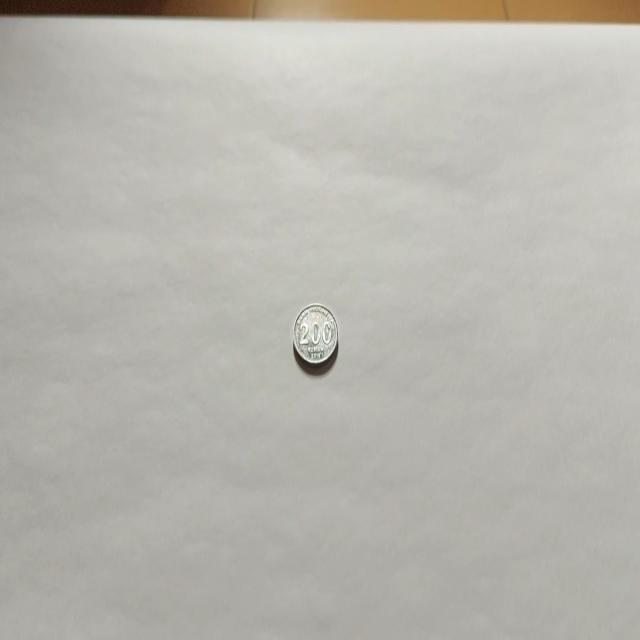dua ratus rupiah: (292, 301, 338, 369)
